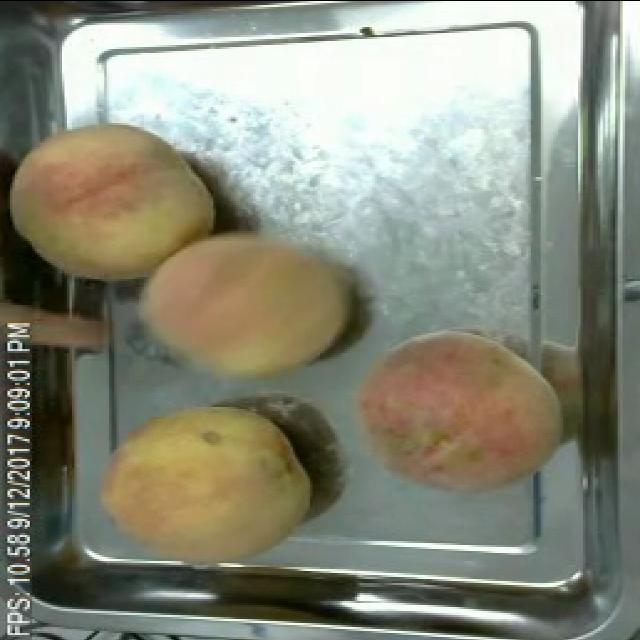Fruit: (87, 390, 325, 580), (124, 220, 364, 394), (0, 108, 226, 292), (344, 320, 570, 500)
